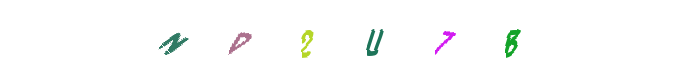2: (266, 0, 346, 80)
7: (405, 0, 485, 80)
B: (471, 0, 551, 80)
D: (238, 0, 318, 80)
N: (233, 0, 313, 80)
U: (310, 0, 390, 80)
